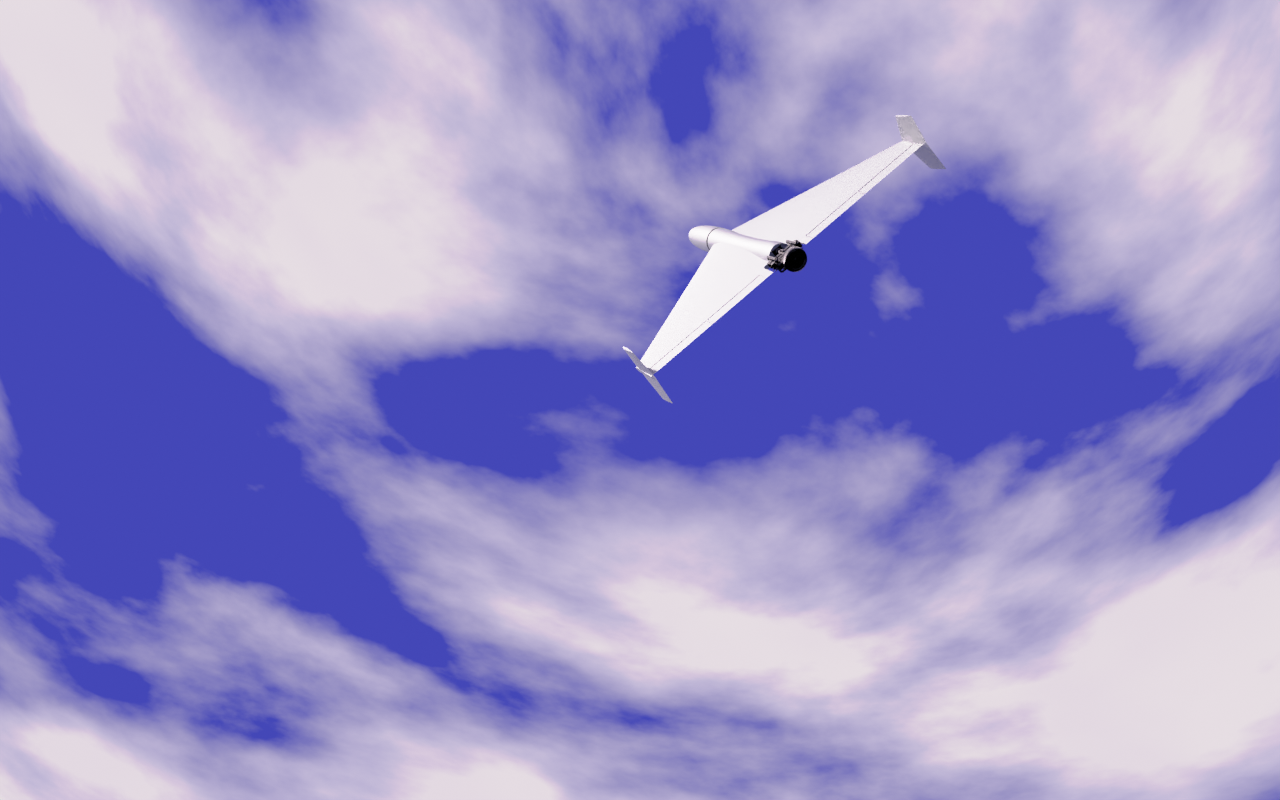shahed: (622, 115, 948, 405)
